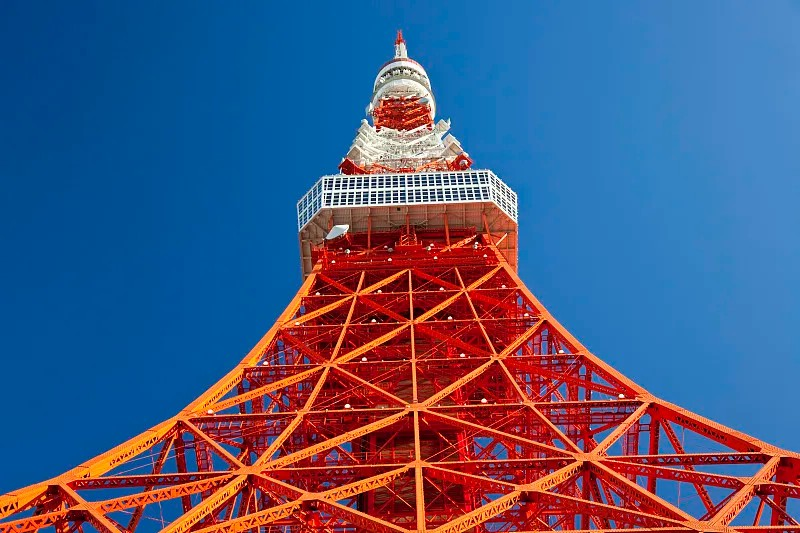Tokyo: (1, 26, 800, 533)
